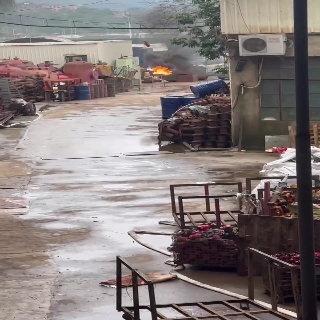fire: (152, 66, 173, 75)
